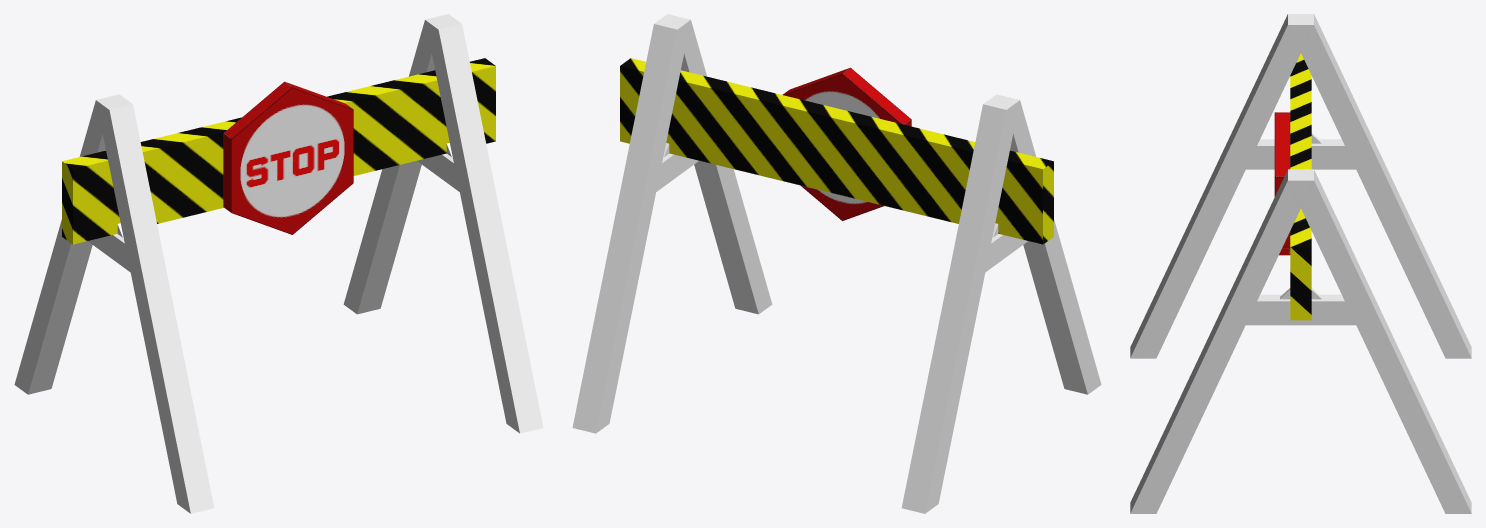
File: Barrier_1-2.fbx
The picture shows the model from 3 angles, left to right: view 1: azimuth 30°, elevation 25°; view 2: azimuth 150°, elevation 25°; view 3: azimuth 270°, elevation 25°; orthographic projection. The views are drawn at different scales.
Parts seen in each view (by area): view 1: Barrier_1-2; view 2: Barrier_1-2; view 3: Barrier_1-2.
Part boxes in pixels (bbox=[...]): Barrier_1-2: bbox=[14, 14, 543, 513]; Barrier_1-2: bbox=[572, 14, 1101, 513]; Barrier_1-2: bbox=[1130, 14, 1471, 513].
Size of the model in its own units: 90 by 70 by 65.
Materials: 1 (1 with a texture image).
